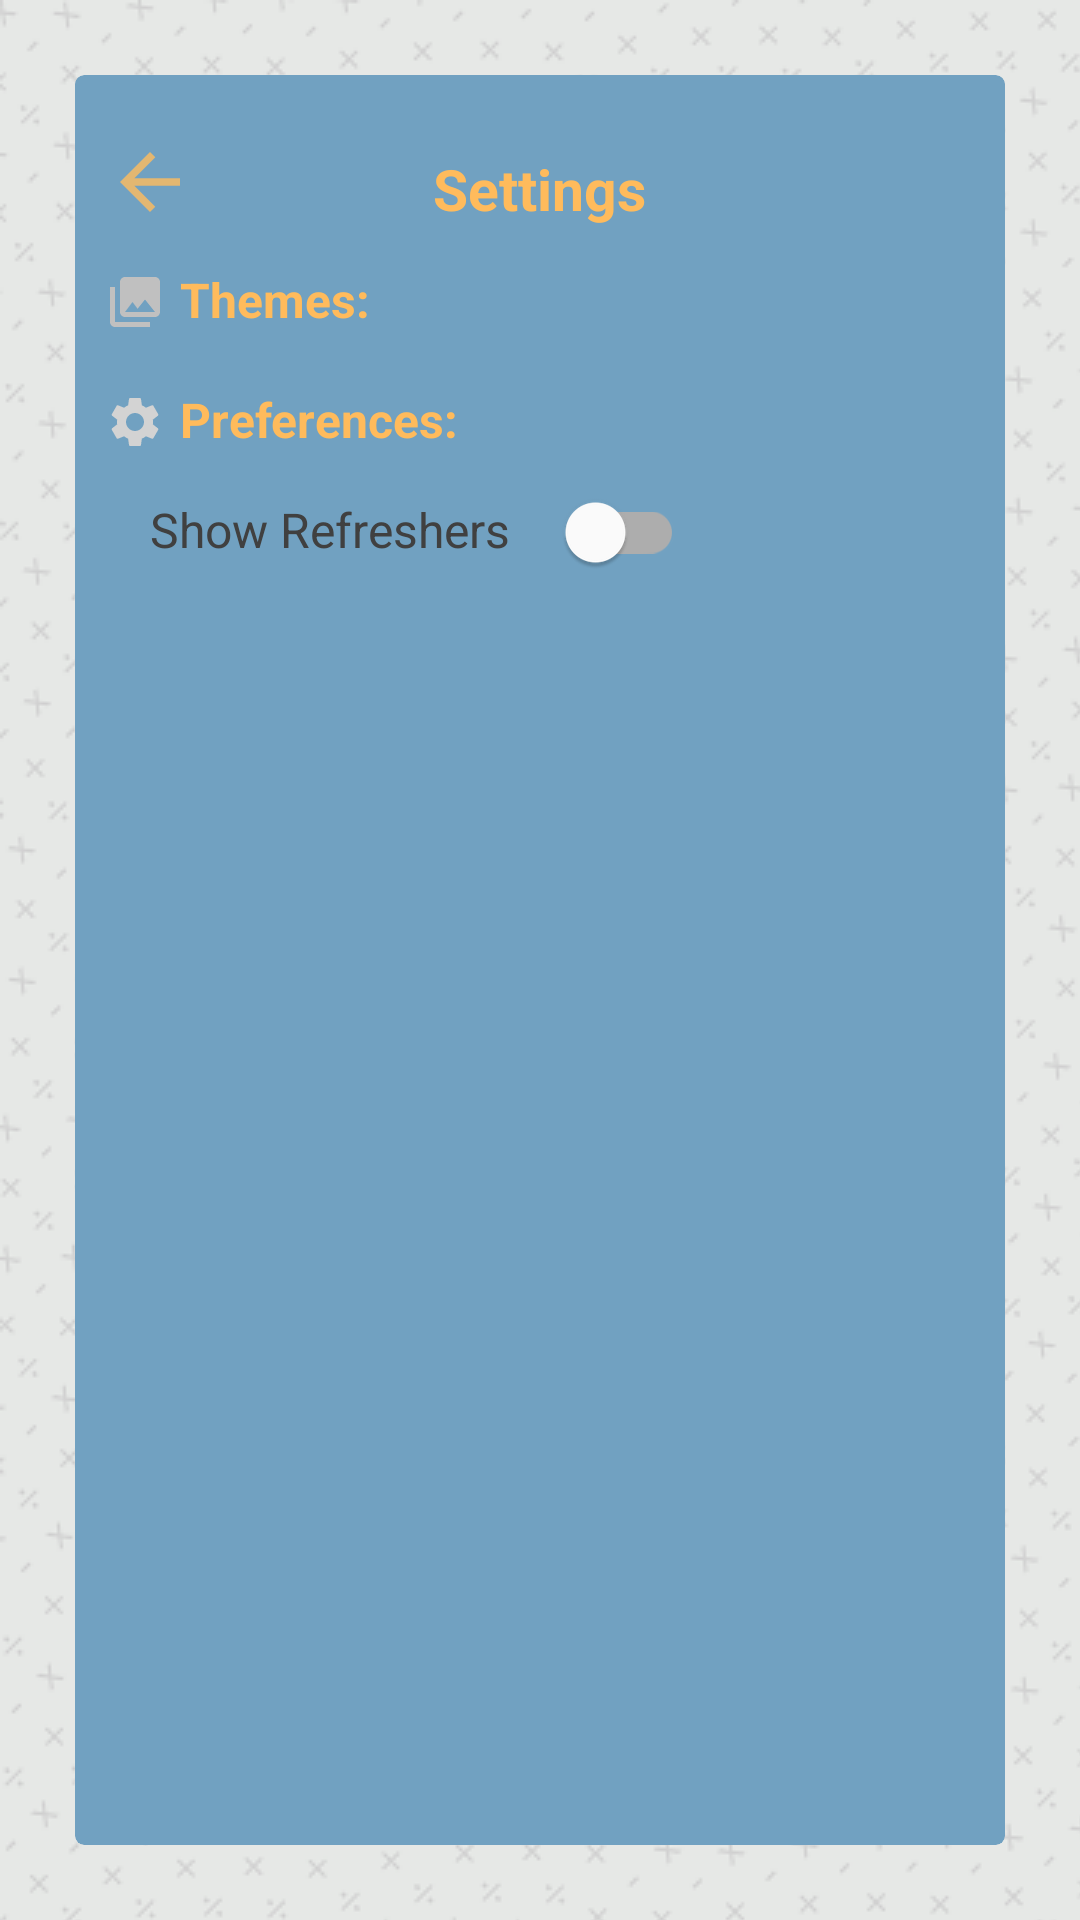

Where icons sit on this 1080w x 1920h app screen, as (x1, y1, x2, y2):
Exit: (120, 152, 180, 212)
Settings: (111, 398, 159, 446)
